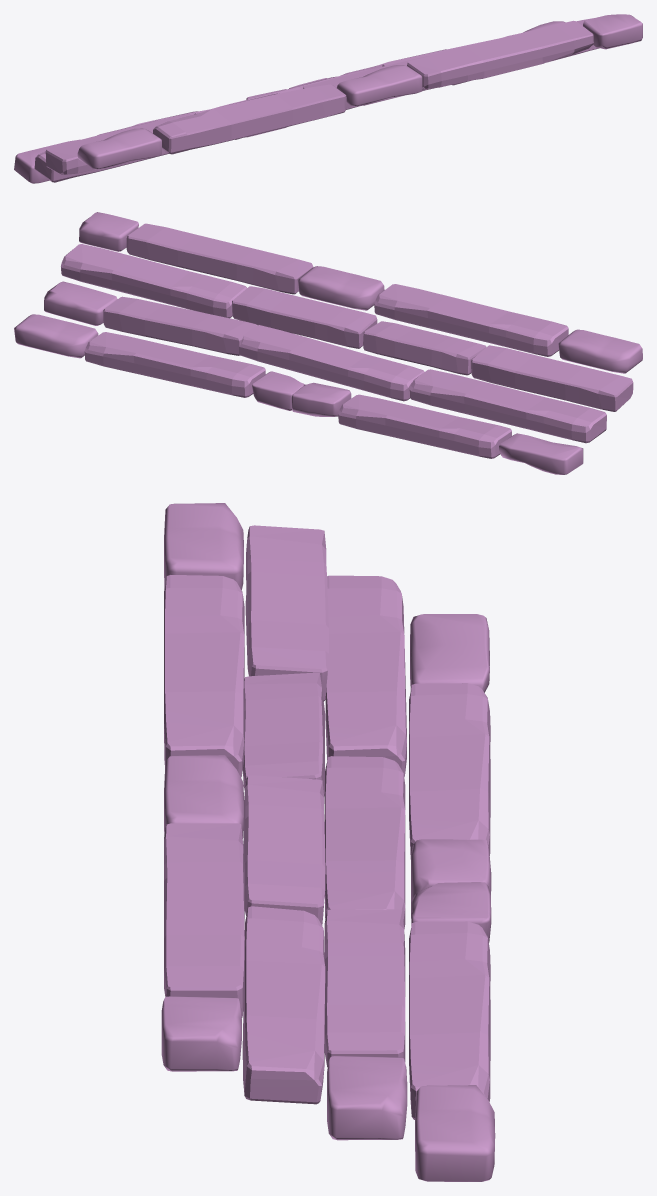
Rendered from Stairs_Pavement_02_Lod0.fbx.
3 renders of one model, top to bottom at view 1: azimuth 30°, elevation 25°; view 2: azimuth 150°, elevation 25°; view 3: azimuth 270°, elevation 25°, orthographic. The views are drawn at different scales.
Visible parts, largest first — view 1: Stairs_Pavement_02_Lod0; view 2: Stairs_Pavement_02_Lod0; view 3: Stairs_Pavement_02_Lod0.
Part boxes in pixels (x1=…): Stairs_Pavement_02_Lod0: x1=14, y1=14, x2=642, y2=183; Stairs_Pavement_02_Lod0: x1=14, y1=212, x2=642, y2=474; Stairs_Pavement_02_Lod0: x1=161, y1=503, x2=495, y2=1181.
Size of the model in its own units: 603 by 80.61 by 155.
